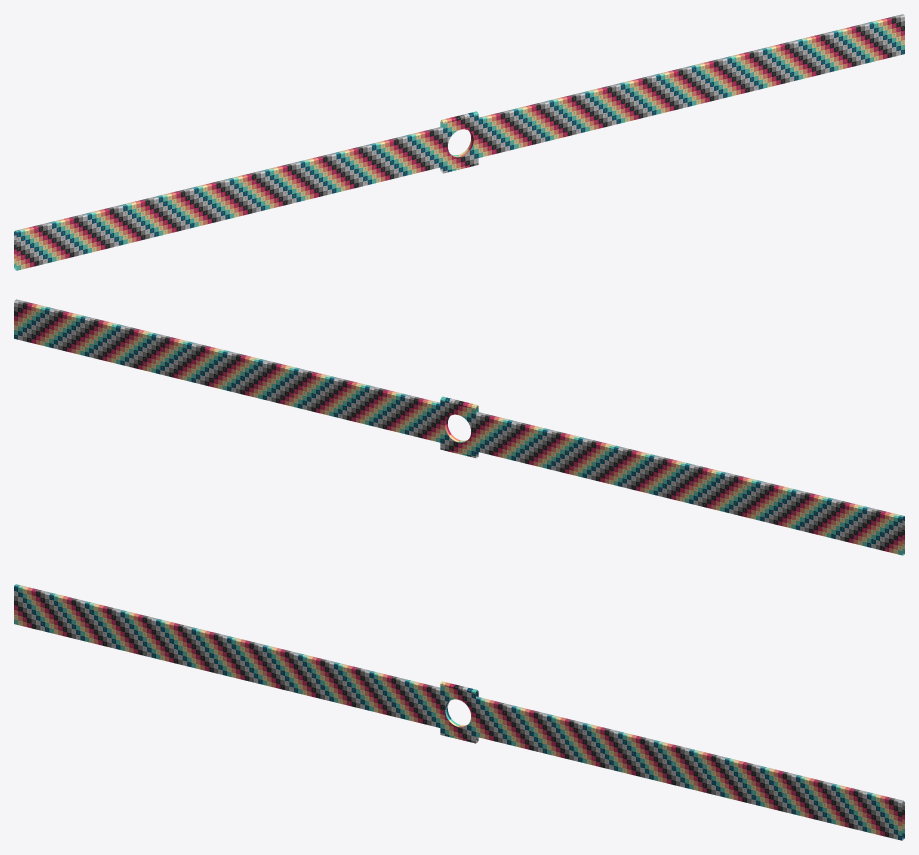
Rendered from panelWindowRound290_manMorph.glb.
The picture shows the model from 3 angles, top to bottom: view 1: azimuth 30°, elevation 25°; view 2: azimuth 150°, elevation 25°; view 3: azimuth 330°, elevation 25°; orthographic projection.
Parts seen in each view (by area): view 1: panelWindowRound290MaxWidth, panelWindowRound290MaxHeight; view 2: panelWindowRound290MaxWidth, panelWindowRound290MaxHeight, panelWindowRound290; view 3: panelWindowRound290MaxWidth, panelWindowRound290MaxHeight.
Part boxes in pixels (bbox=[...]): panelWindowRound290MaxWidth: bbox=[14, 14, 904, 270]; panelWindowRound290MaxHeight: bbox=[440, 111, 478, 173]; panelWindowRound290MaxWidth: bbox=[14, 299, 904, 555]; panelWindowRound290MaxHeight: bbox=[440, 396, 478, 458]; panelWindowRound290: bbox=[440, 406, 477, 451]; panelWindowRound290MaxWidth: bbox=[14, 584, 904, 840]; panelWindowRound290MaxHeight: bbox=[440, 681, 478, 743].
Bounding box in the file's own units: 7.5 × 0.42 × 0.04.
1 material, 1 textured.
